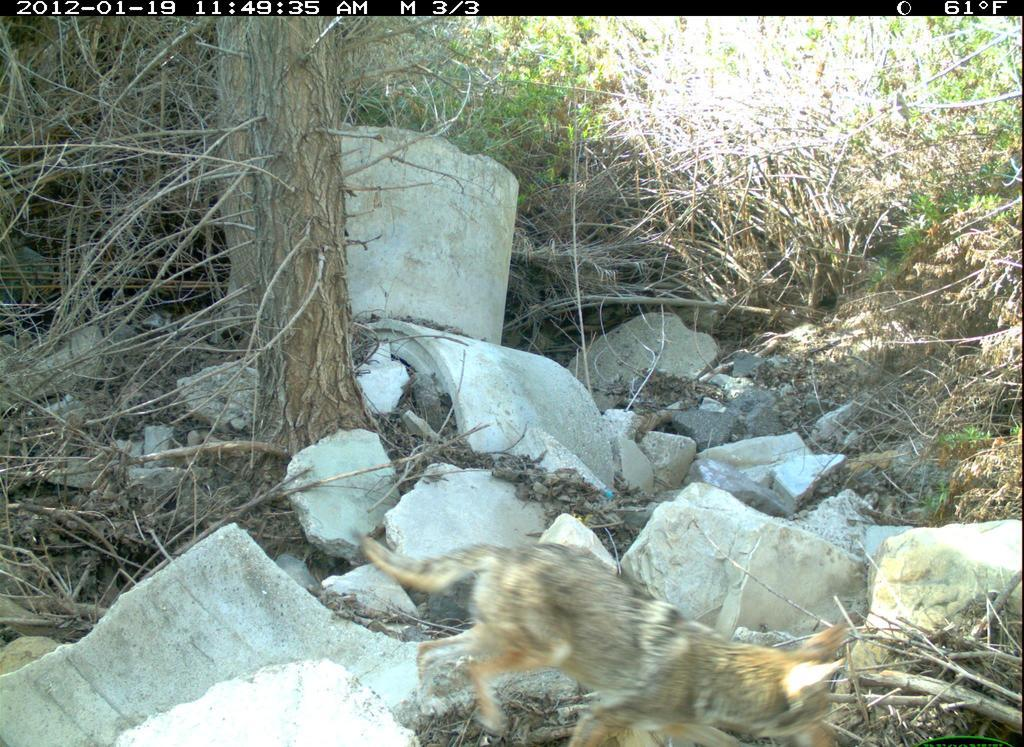coyote: (349, 519, 861, 745)
